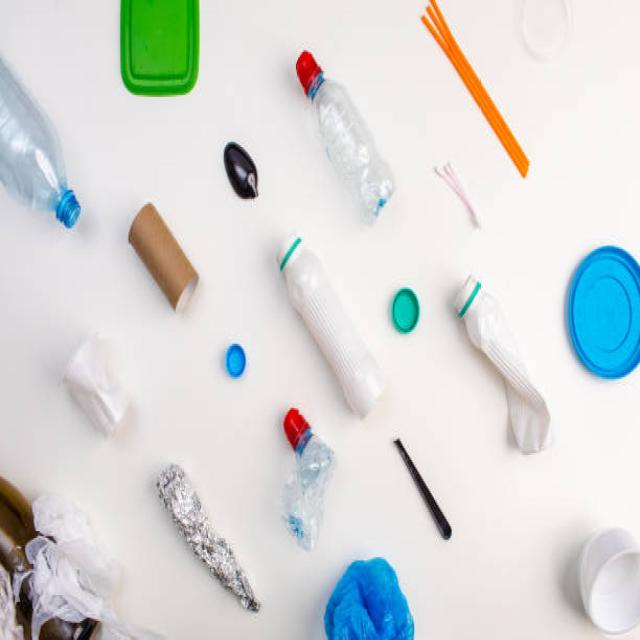cardboard: (123, 192, 214, 320)
plastic: (266, 228, 386, 569)
